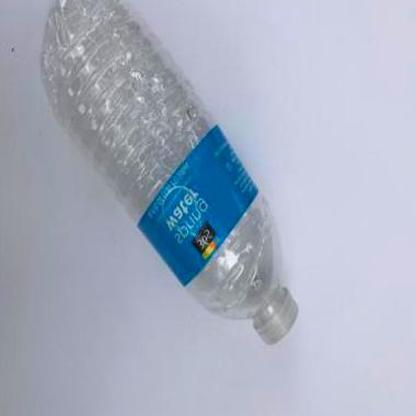plastic bottle: (42, 1, 297, 344)
